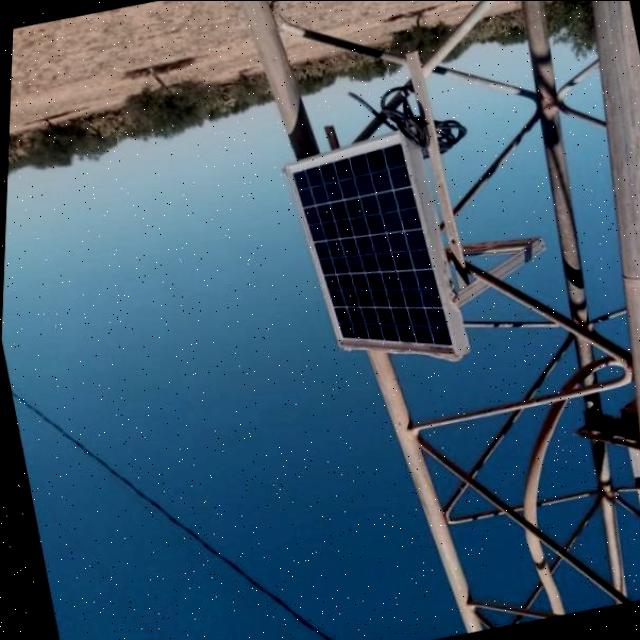Normal Solar Panel: (272, 129, 462, 389)
